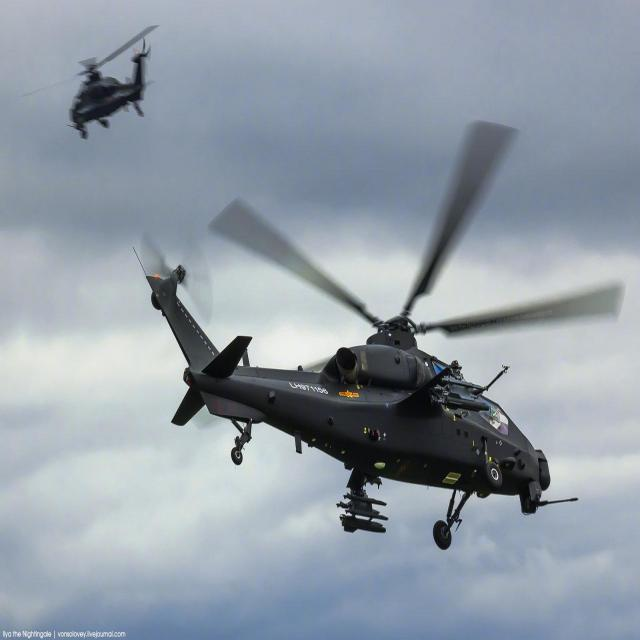MIL_HELO: (120, 113, 640, 560), (17, 19, 165, 150)
